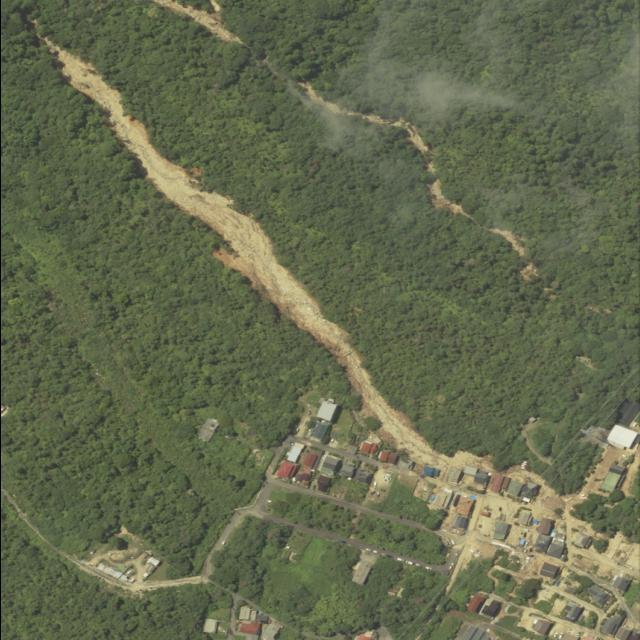landslide: (40, 37, 481, 469), (305, 85, 425, 152)
